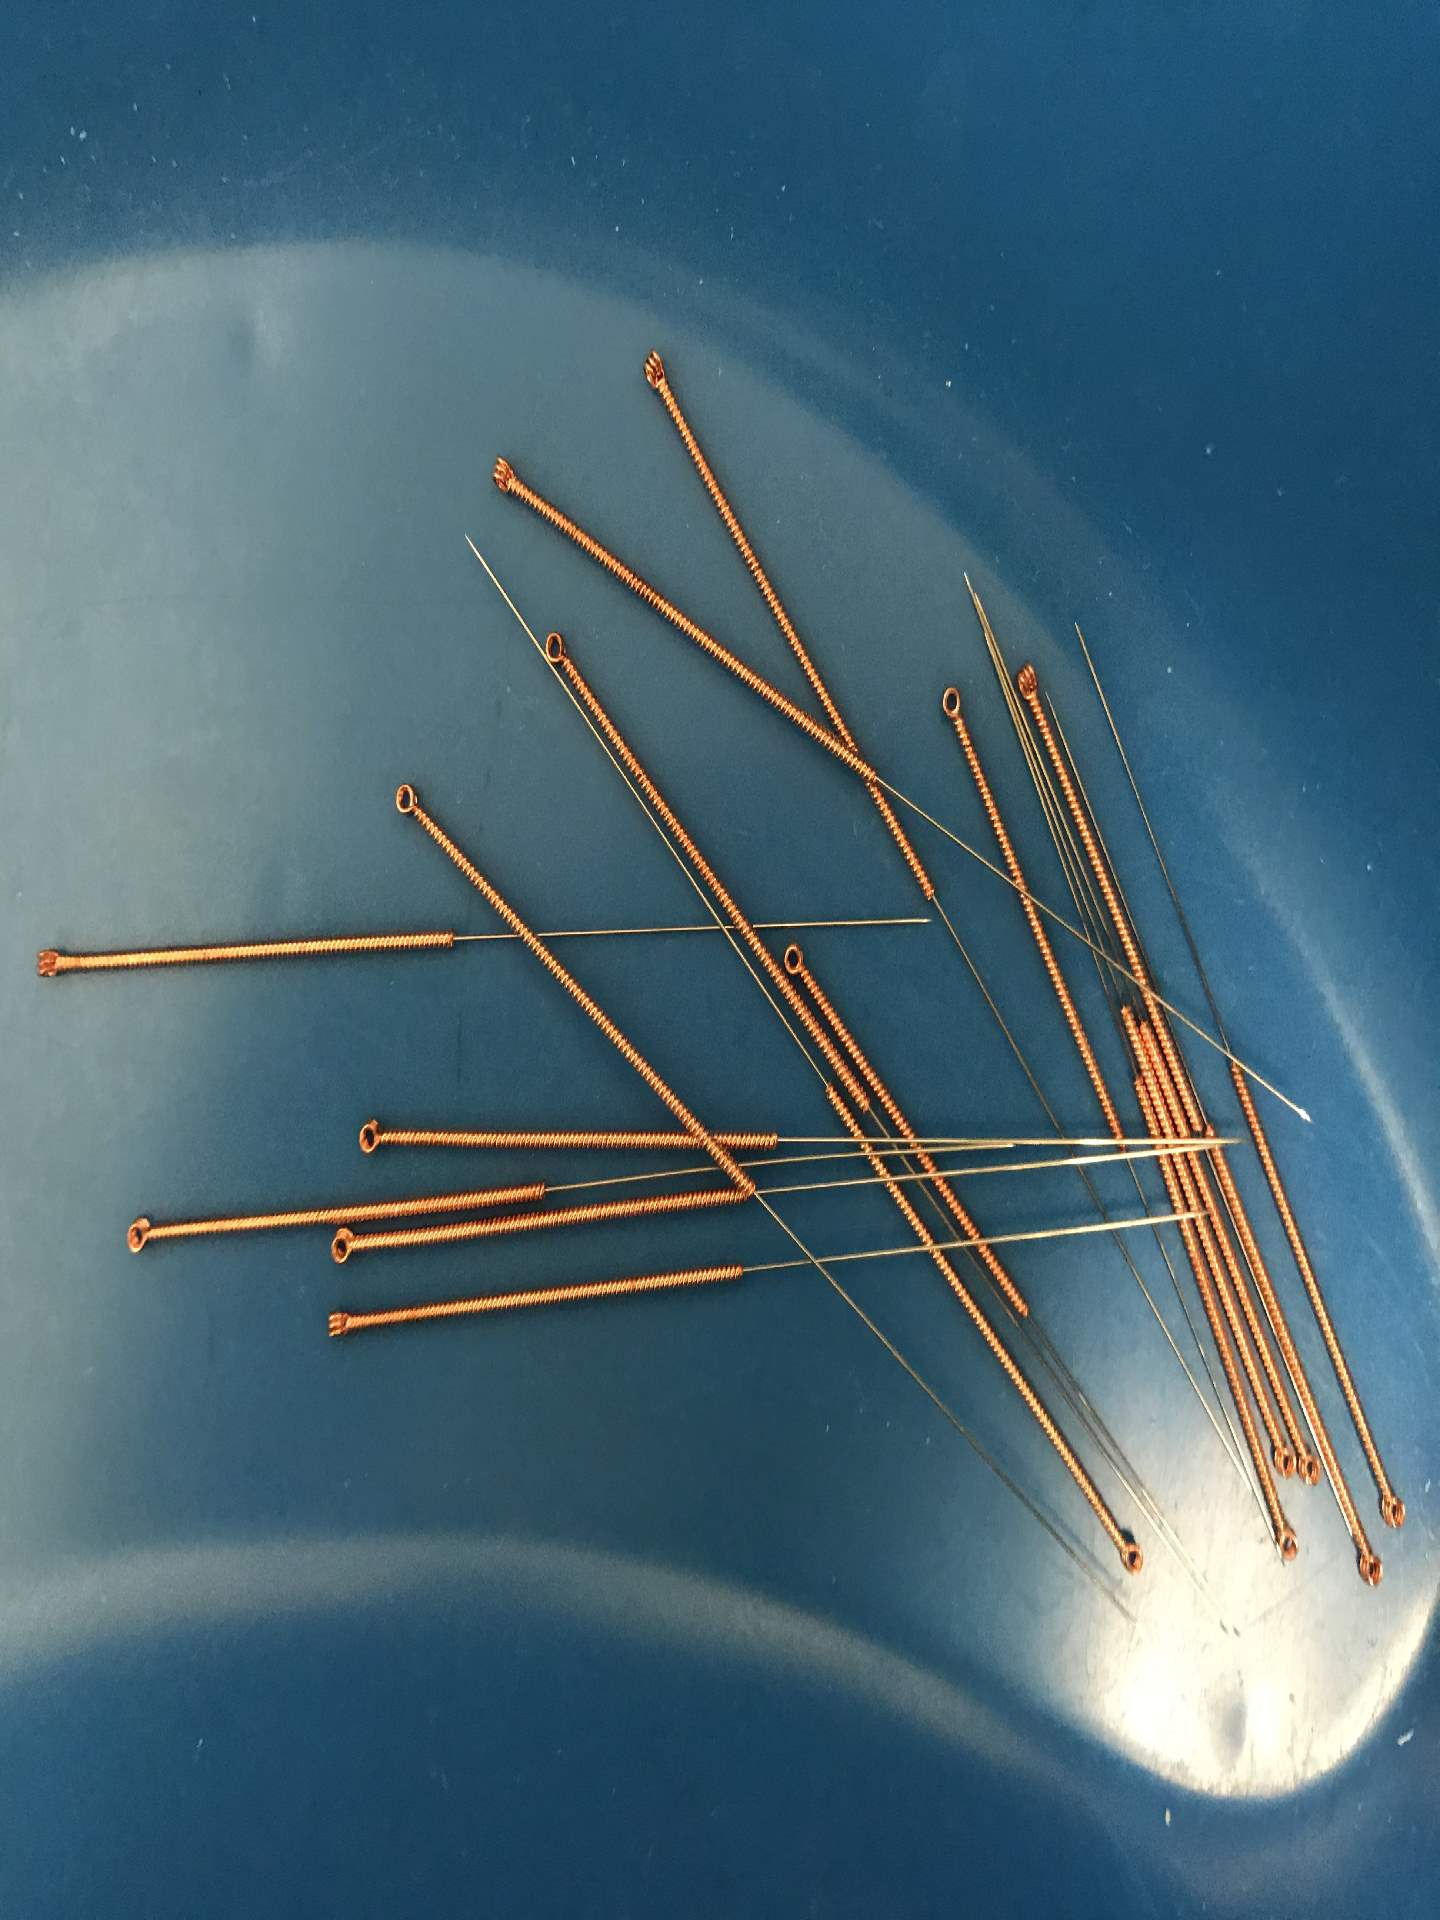needle: (629, 339, 681, 404), (1367, 1469, 1414, 1538), (1345, 1534, 1395, 1598), (383, 773, 434, 833), (478, 447, 532, 503), (110, 1208, 163, 1261), (1007, 653, 1051, 715), (1263, 1515, 1310, 1572), (532, 620, 576, 679), (932, 676, 976, 733), (21, 939, 70, 990), (318, 1225, 371, 1271), (346, 1110, 393, 1163), (1107, 1524, 1148, 1581), (313, 1302, 362, 1349), (1292, 1439, 1325, 1491), (1268, 1433, 1299, 1486), (776, 936, 812, 980)
